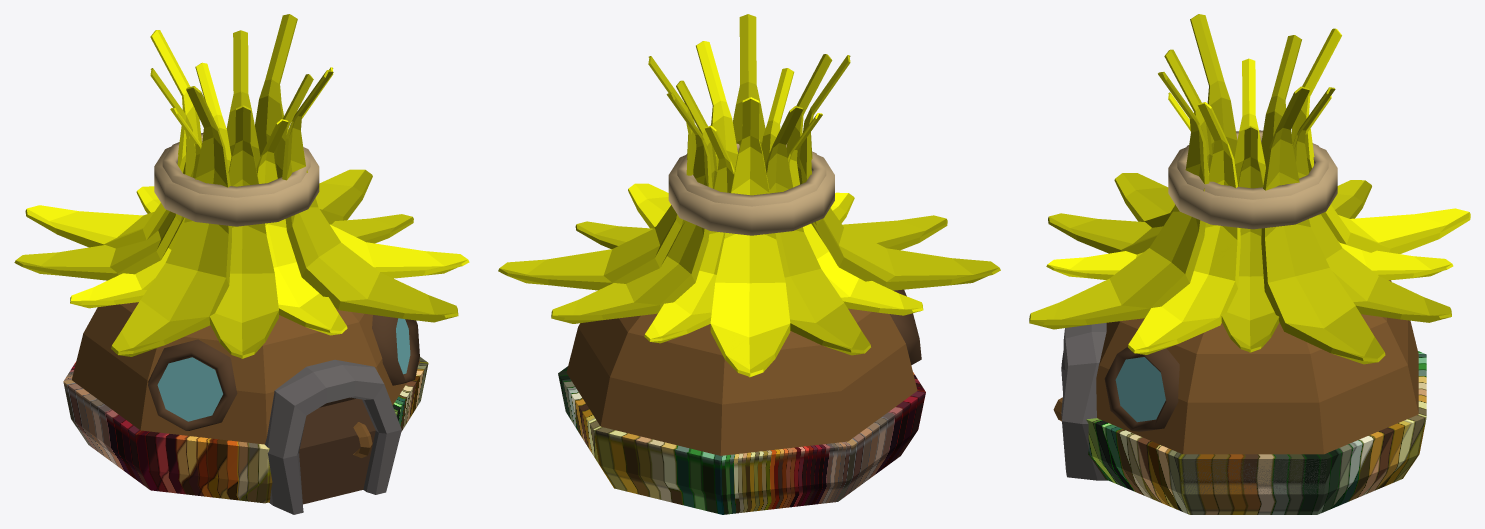
File: House.fbx
The picture shows the model from 3 angles, left to right: view 1: azimuth 30°, elevation 25°; view 2: azimuth 150°, elevation 25°; view 3: azimuth 270°, elevation 25°; orthographic projection. The views are drawn at different scales.
Visible parts, largest first — view 1: Cube.003; view 2: Cube.003; view 3: Cube.003.
Part boxes in pixels (x1,y1,x2,y2): Cube.003: [14, 14, 469, 514]; Cube.003: [498, 14, 1000, 514]; Cube.003: [1029, 14, 1470, 514].
Size of the model in its own units: 5 by 5 by 5.
